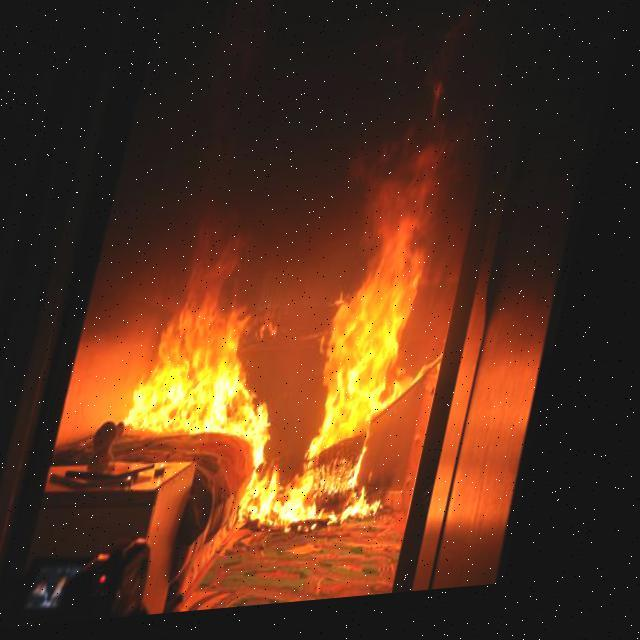Fire: (132, 99, 487, 544)
